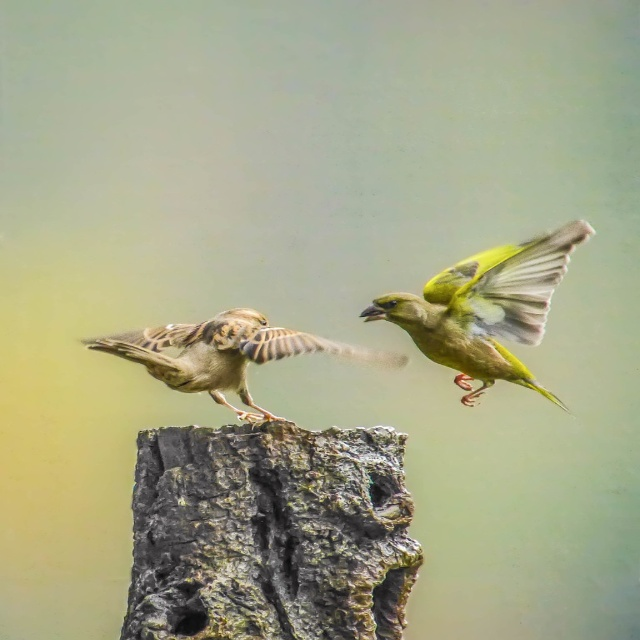Sparrow: (355, 217, 604, 404), (77, 308, 399, 420)
